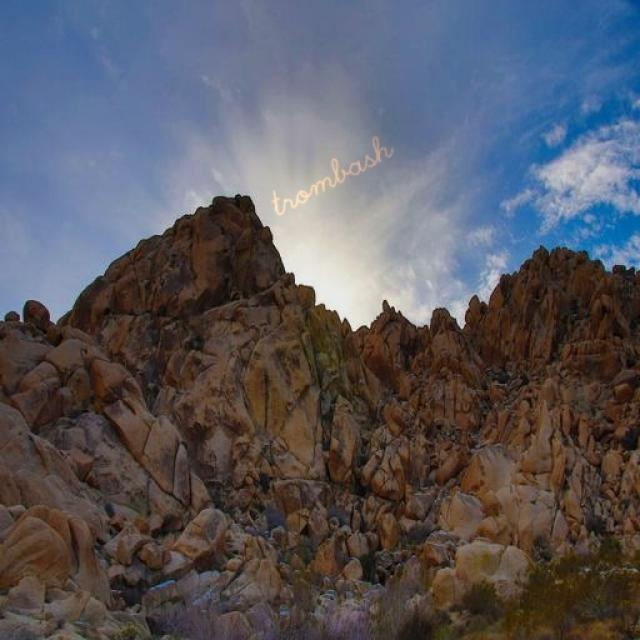watermark: (269, 126, 394, 221)
